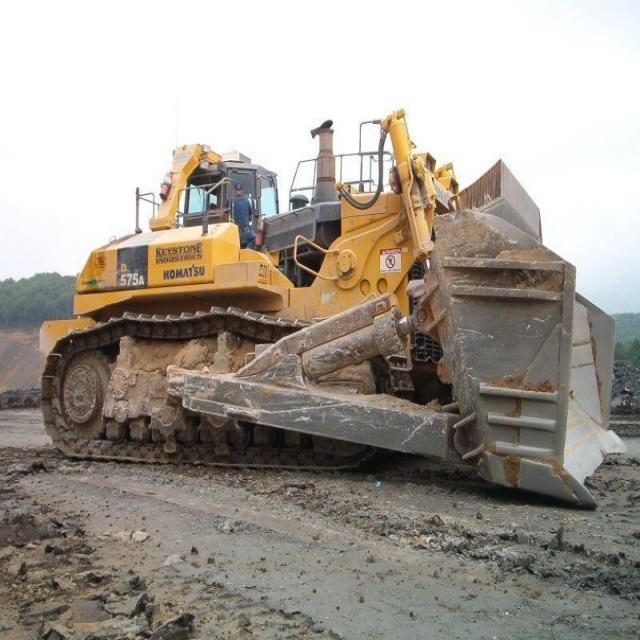buldozerpayloadergrader: (23, 98, 626, 524)
